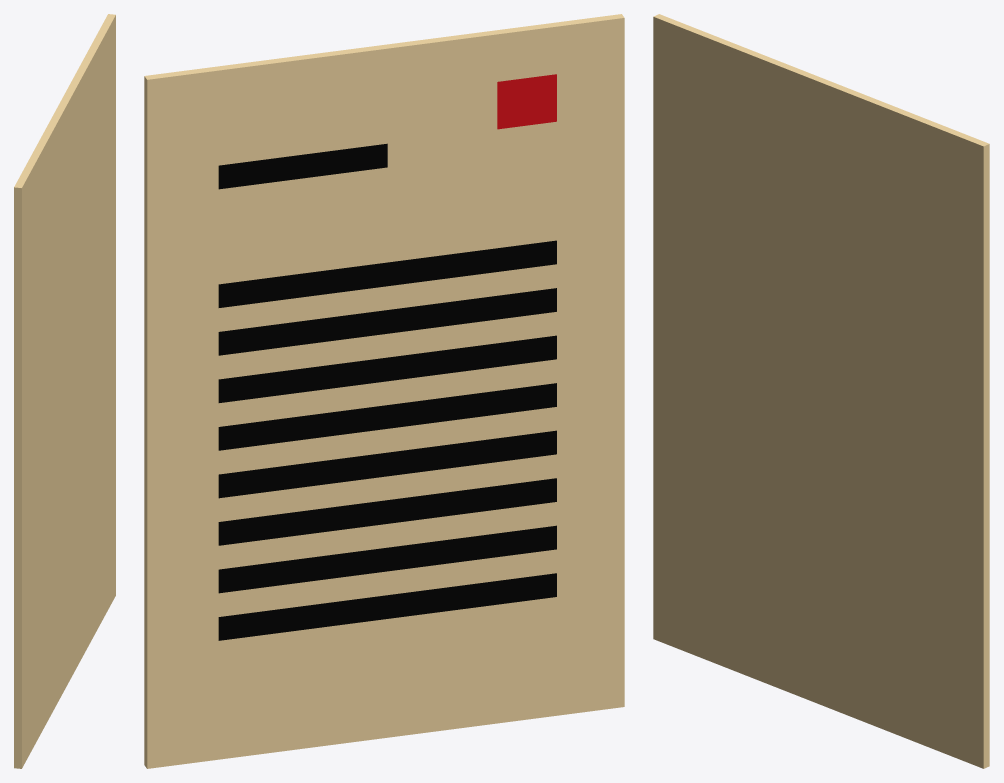
Rendered from Paper 2.fbx.
3 renders of one model, left to right at view 1: azimuth 30°, elevation 25°; view 2: azimuth 150°, elevation 25°; view 3: azimuth 270°, elevation 25°, orthographic. The views are drawn at different scales.
Parts seen in each view (by area): view 1: Paper 2; view 2: Paper 2; view 3: Paper 2.
Boxes of the visible parts, left/top/right/bottom form: Paper 2: left=14, top=14, right=115, bottom=768; Paper 2: left=144, top=14, right=624, bottom=768; Paper 2: left=653, top=14, right=989, bottom=768.
Size of the model in its own units: 34.41 by 36.9 by 75.37.
